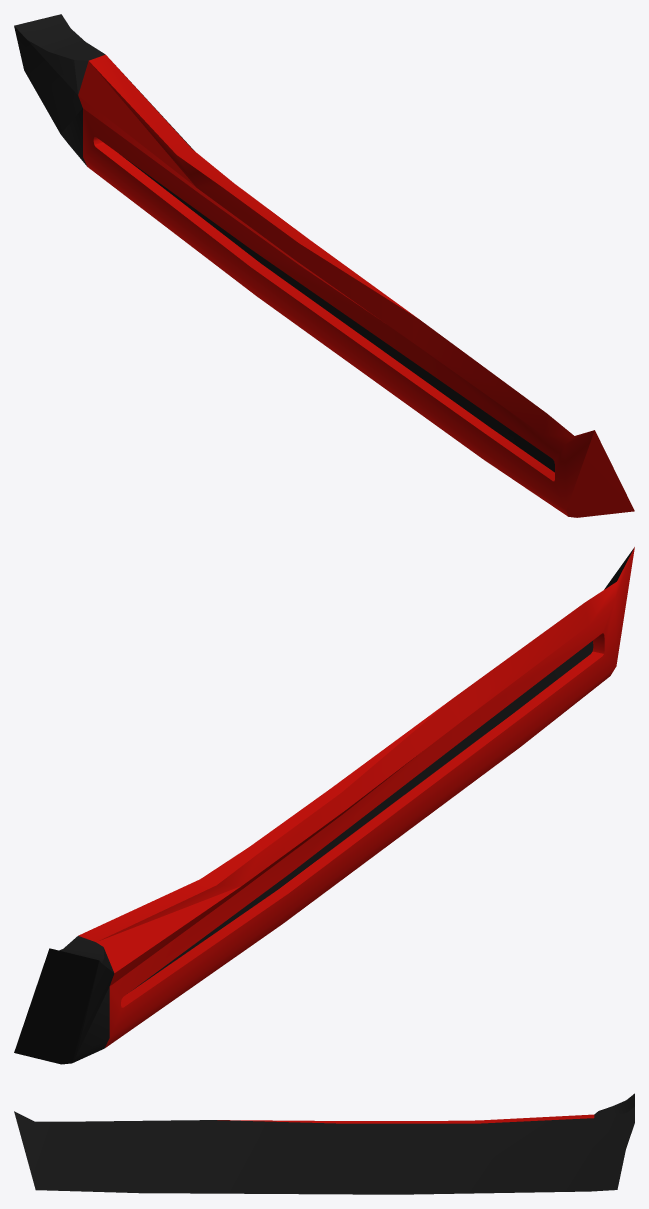
Rendered from Classic_2_Sidepanel_3_R.fbx.
3 views of the same model, one above another, from view 1: azimuth 30°, elevation 25°; view 2: azimuth 150°, elevation 25°; view 3: azimuth 270°, elevation 25° (orthographic). The views are drawn at different scales.
Visible parts, largest first — view 1: Classic_2_Sidepanel_3_R; view 2: Classic_2_Sidepanel_3_R; view 3: Classic_2_Sidepanel_3_R.
Part boxes in pixels (x1=…): Classic_2_Sidepanel_3_R: x1=14, y1=14, x2=634, y2=517; Classic_2_Sidepanel_3_R: x1=14, y1=547, x2=634, y2=1064; Classic_2_Sidepanel_3_R: x1=14, y1=1093, x2=634, y2=1194.
Size of the model in its own units: 31 by 40.23 by 303.
